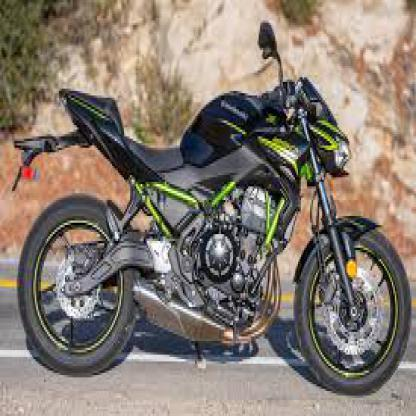Motorcycle: (10, 20, 413, 397)
